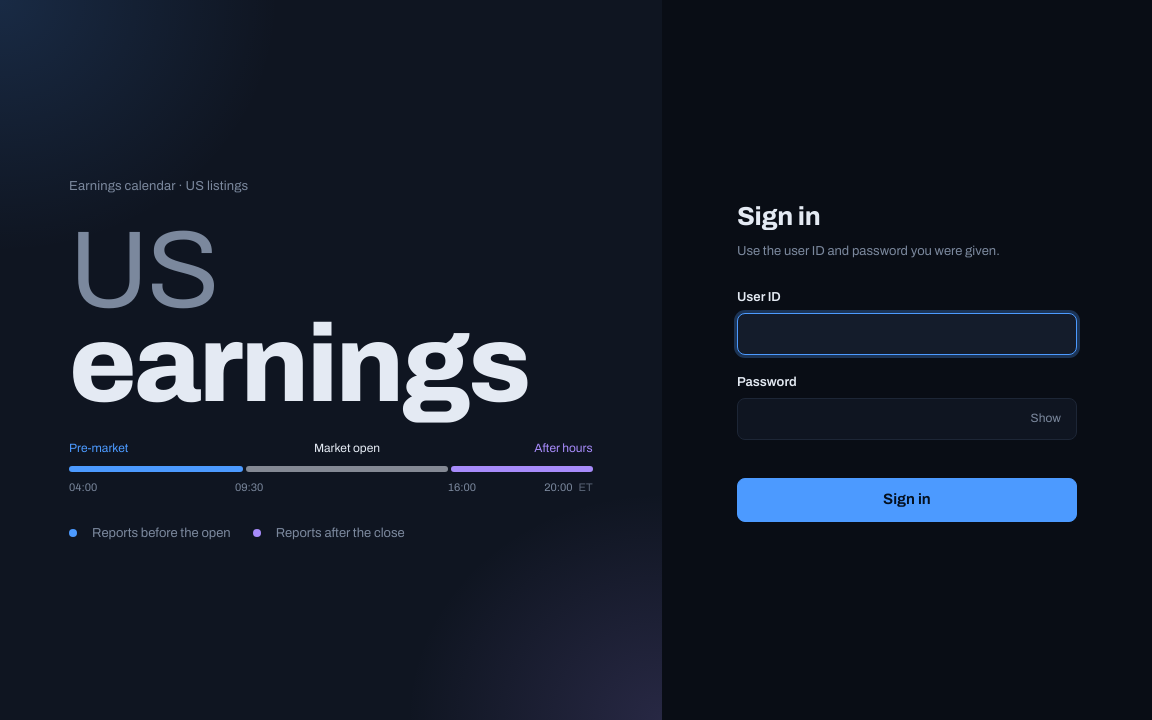
Test: signing in shows the calendar
In the field labelled "User ID": [907, 334] box [737, 313, 1077, 355], type "1a"
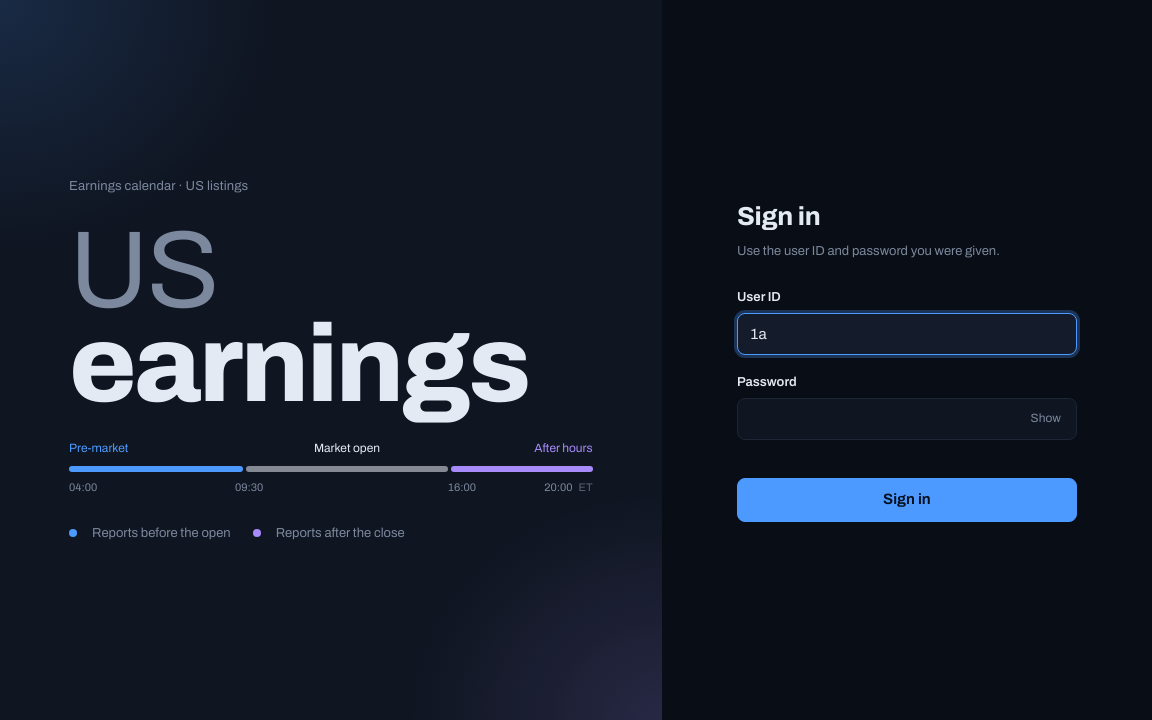
In the password field labelled "Password": [907, 419] box [737, 398, 1077, 440], type "00000000"
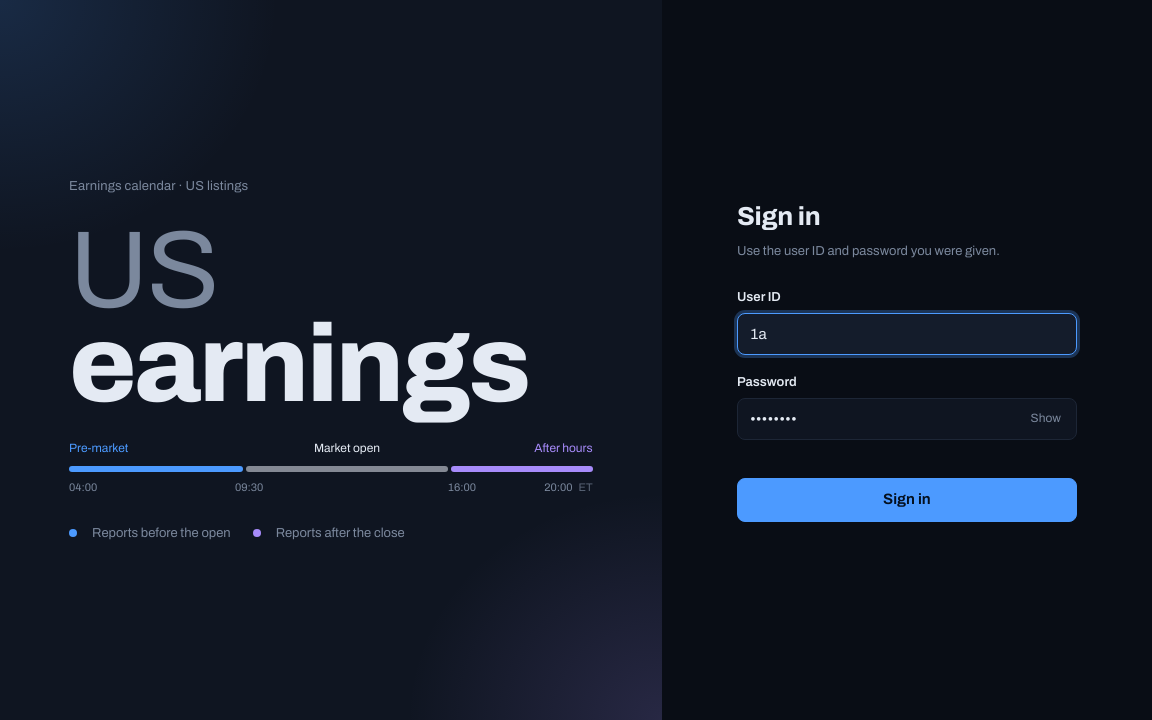
Click the button "Sign in": [907, 500] box [737, 478, 1077, 522]
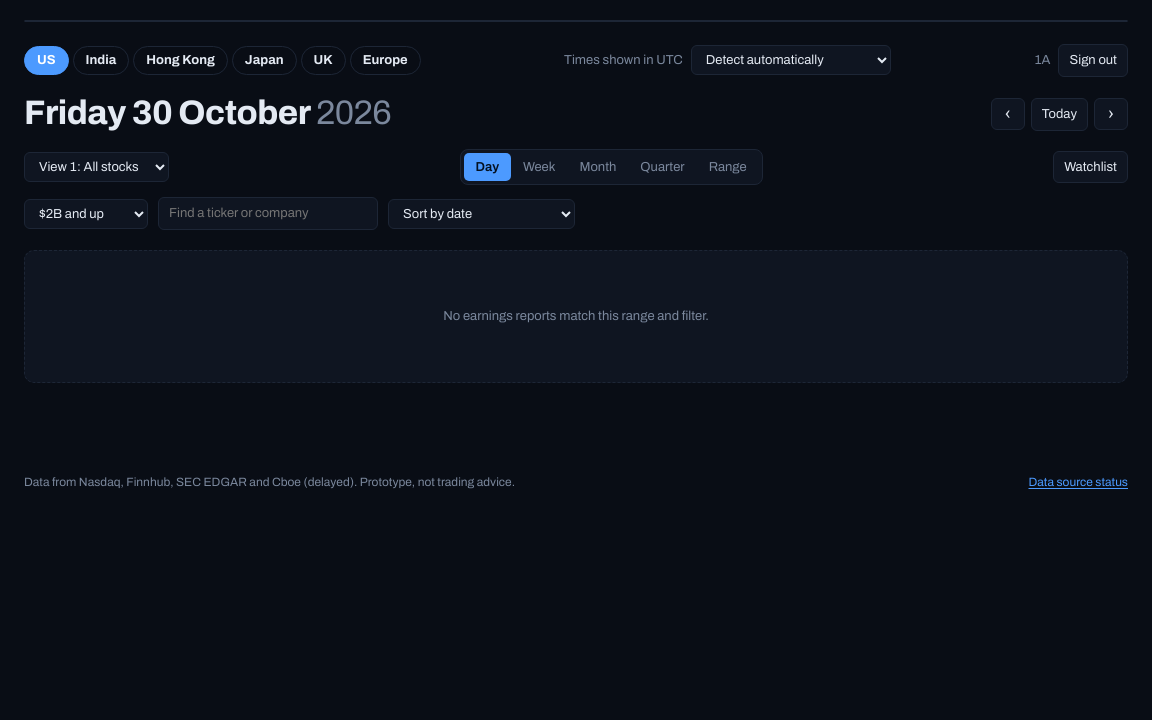
expect the button "Sign out" is shown: met, box [1058, 44, 1128, 77]
expect the text labelled "user ID" is gone: met
